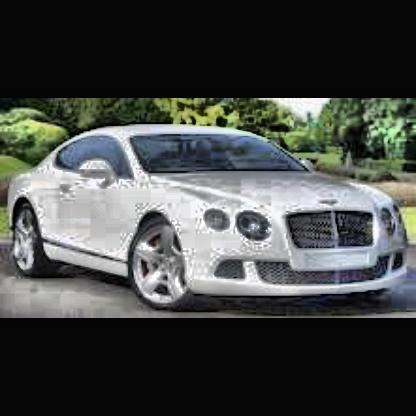Bentley Continental GT Coupe 2012: (4, 122, 416, 308)
